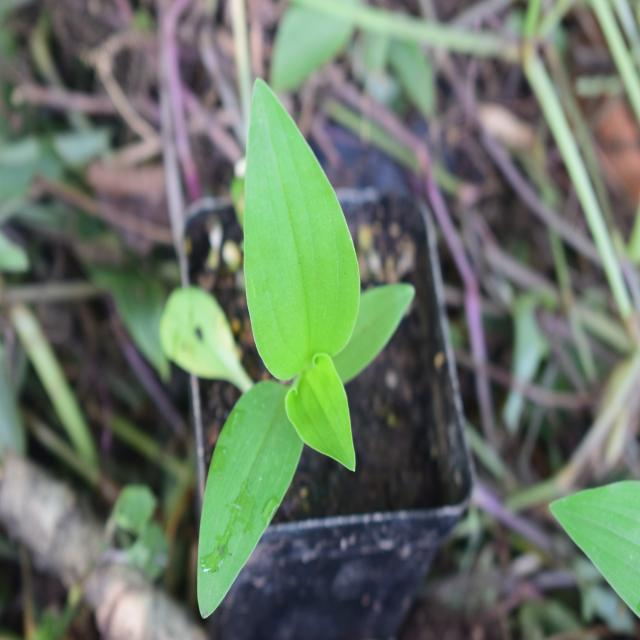Common Dayflower: (171, 66, 386, 610)
